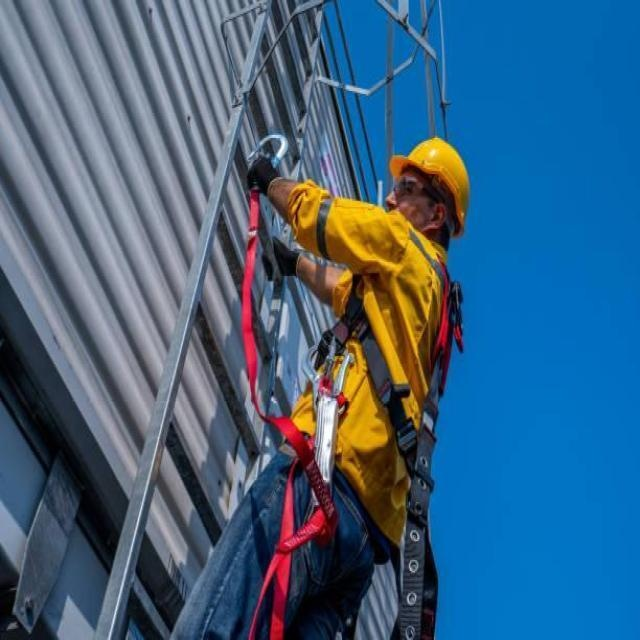Arnes_seguridad: (301, 229, 465, 609), (339, 268, 466, 493)
